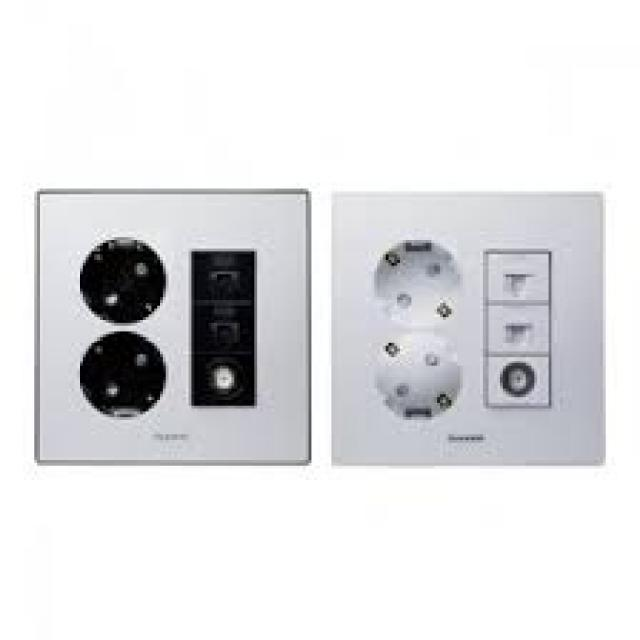typeb: (324, 172, 624, 496), (25, 169, 317, 494)
